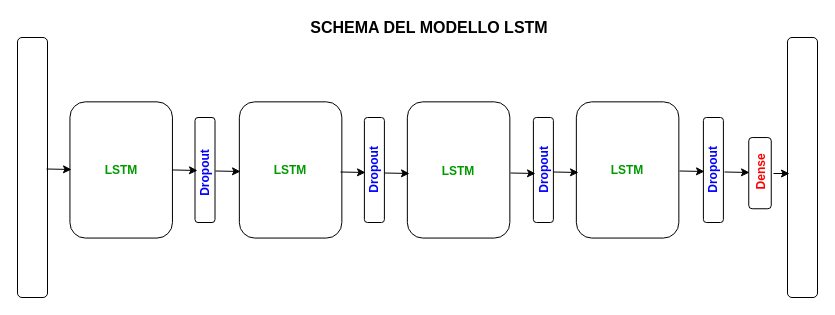
The diagram is 835 pixels wide and 315 high, and some of its shapes have lost their labels. Each missing label, with the box of its shape:
Classificazione: (786, 36, 818, 298)
Dati di input: (16, 36, 48, 298)
